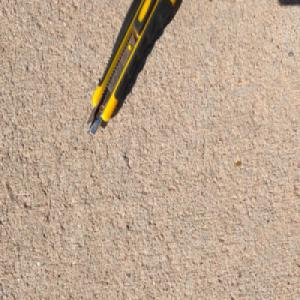Cutter: (86, 0, 181, 137)
